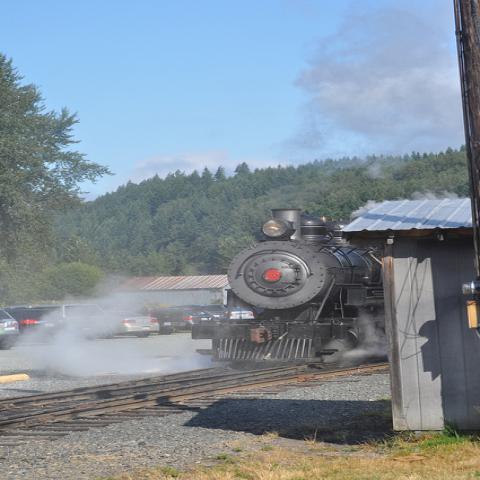car: (2, 302, 117, 344), (98, 309, 163, 339), (162, 309, 215, 331), (143, 310, 187, 335), (0, 306, 23, 349), (103, 302, 150, 315), (199, 304, 231, 322), (229, 305, 255, 324)
